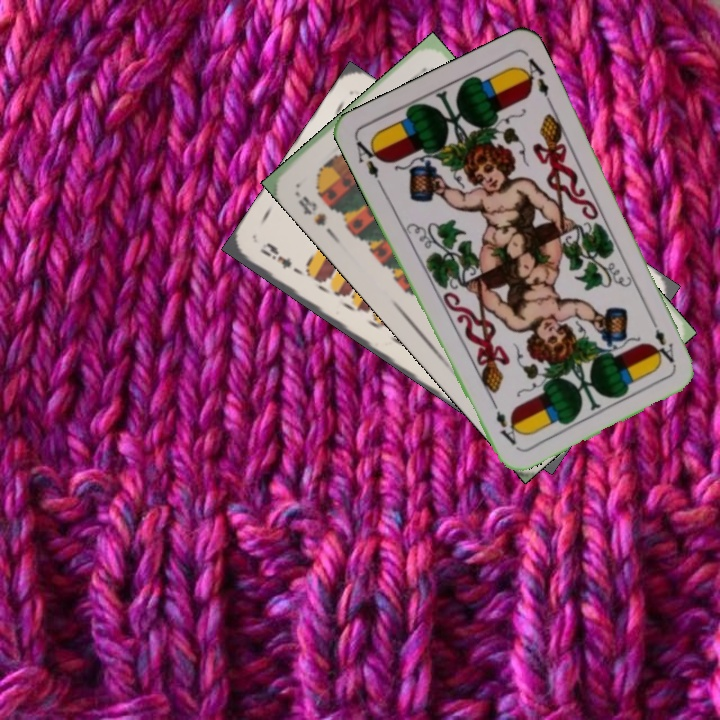E9: (256, 239, 309, 278)
EA: (646, 313, 678, 369), (349, 135, 385, 181)
S8: (294, 191, 329, 229)
